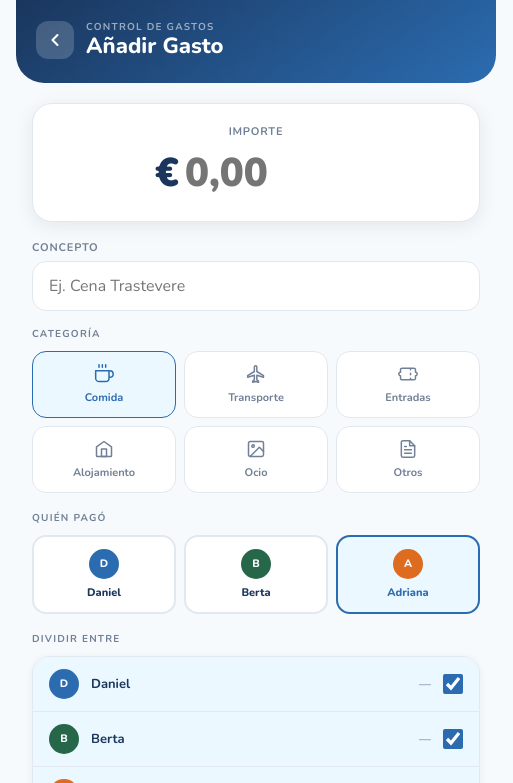
Test: AnadirGasto › no envía el gasto sin importe y explica el motivo
The image size is (513, 783).
Expected: the element named "Quién pagó" is shown, [32,535,480,614]
Type "Cena" into the field labelled "Concepto".
click(256, 286); type("Cena")  # box [32,261,480,311]
(page scrolled)
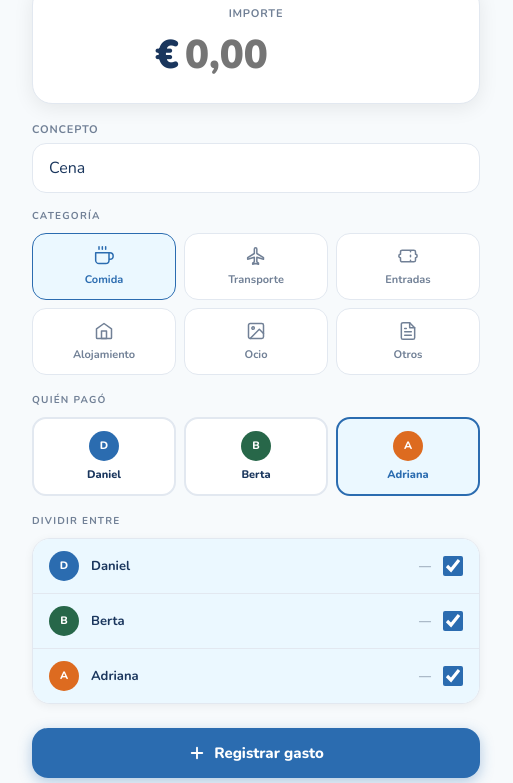
Click the button "Registrar gasto".
click(256, 753)  # box [32,728,480,778]
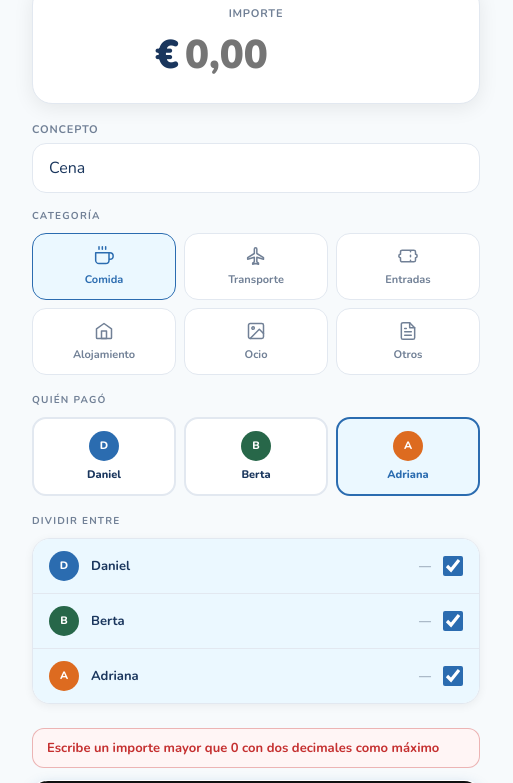
Now the message reads "Escribe un importe mayor que 0 con dos decimales como máximo", box [47,739,439,757]
